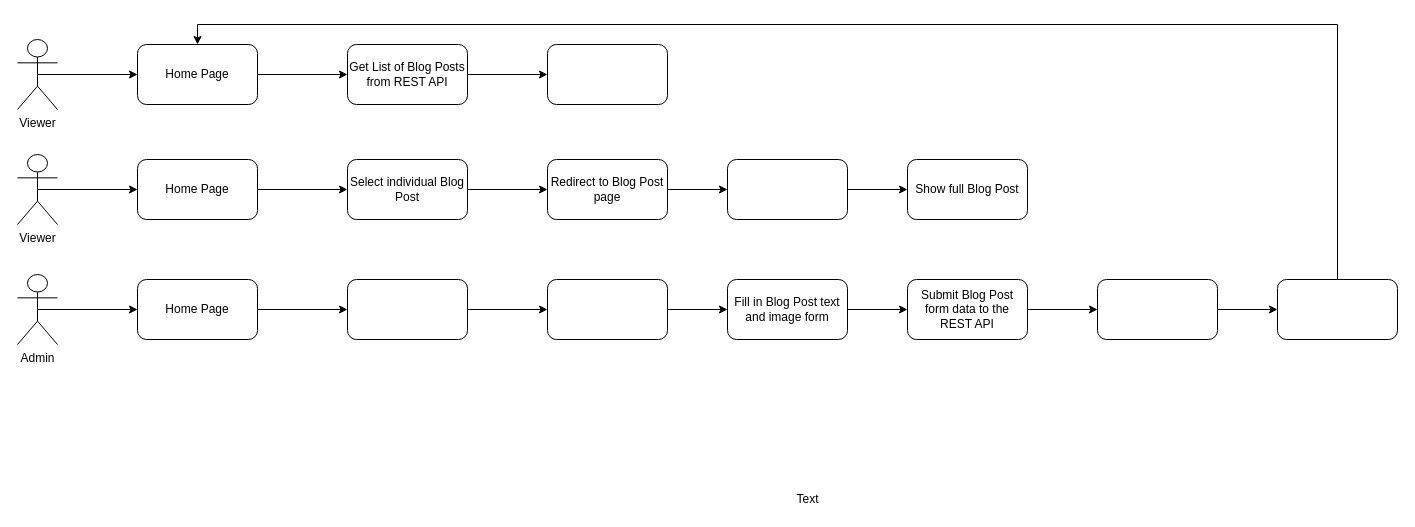
The diagram is 1415 pixels wide and 527 high, and some of its shapes have lost their labels. Each missing label, with the box of its shape:
Click button to add a new Blog Post: (346, 278, 468, 340)
Get individual Blog Post data from the REST API: (726, 158, 848, 220)
Redirect to Blog Post editor page: (546, 278, 668, 340)
Redirect to Home Page: (1276, 278, 1398, 340)
Show list of Blog Posts on Home Page: (546, 44, 668, 104)
Store Blog Post data in the JSON database: (1096, 278, 1218, 340)
